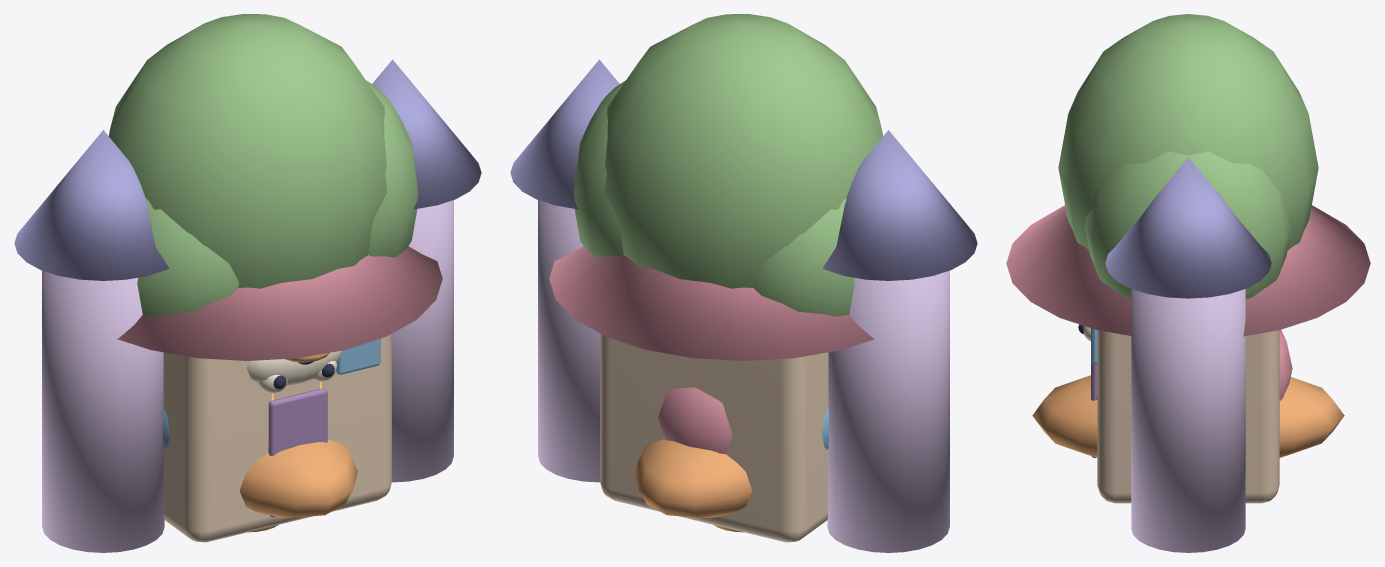
The model's file is toybox.glb.
The picture shows the model from 3 angles, left to right: view 1: azimuth 30°, elevation 25°; view 2: azimuth 150°, elevation 25°; view 3: azimuth 270°, elevation 25°; orthographic projection. The views are drawn at different scales.
Parts seen in each view (by area): view 1: castle, tree, boat, fox, snail; view 2: castle, tree, boat, snail; view 3: castle, tree, boat, snail.
Boxes of the visible parts, x1,y1,x2,y2 form: castle: (14,59,481,552); tree: (109,14,418,316); boat: (239,439,357,517); fox: (247,350,341,386); snail: (258,361,337,452); castle: (510,59,977,552); tree: (573,14,882,316); boat: (634,439,752,517); snail: (658,387,732,454); castle: (1006,157,1370,552); tree: (1058,14,1318,298); boat: (1032,375,1344,457); snail: (1078,324,1292,400).
Bounding box in the file's own units: 1.84 × 1.99 × 1.4.
